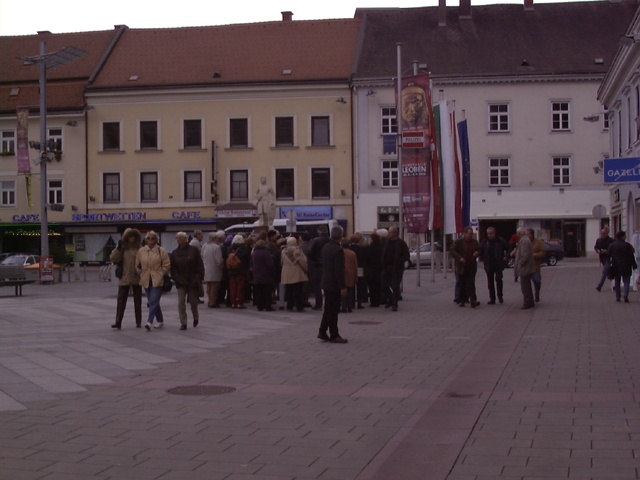person: (309, 218, 349, 342)
